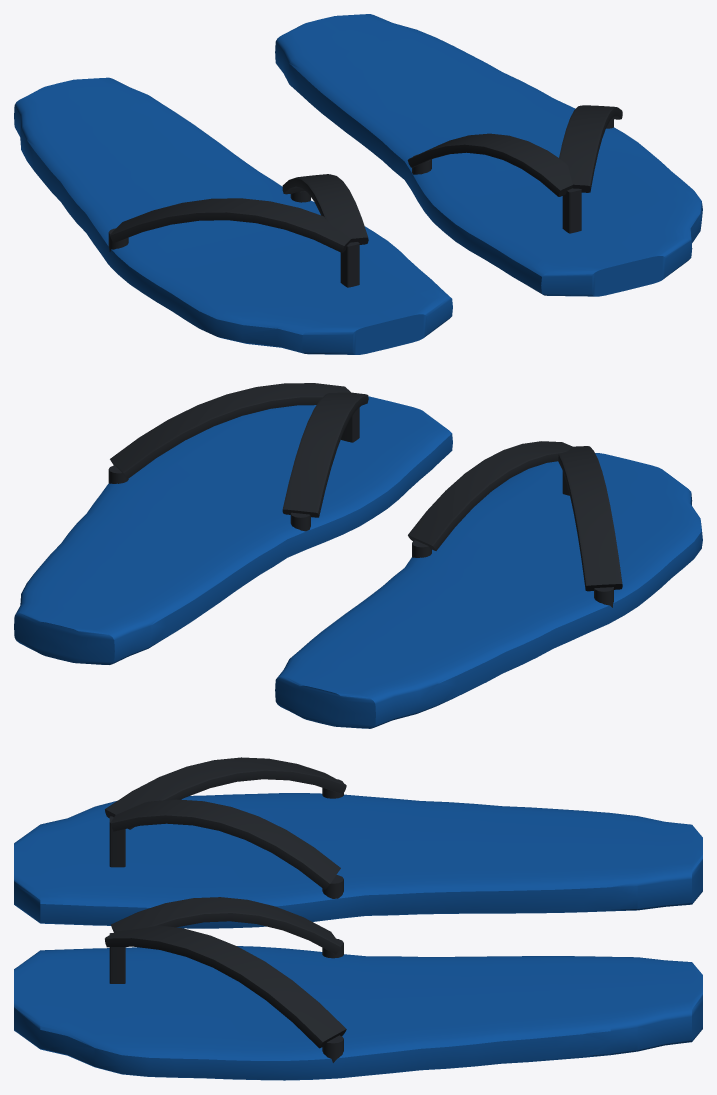
File: dep_tong_vn.glb
The picture shows the model from 3 angles, top to bottom: view 1: azimuth 30°, elevation 25°; view 2: azimuth 150°, elevation 25°; view 3: azimuth 270°, elevation 25°; orthographic projection. The views are drawn at different scales.
Parts seen in each view (by area): view 1: dep_tong_vn; view 2: dep_tong_vn; view 3: dep_tong_vn.
Boxes of the visible parts, x1,y1,x2,y2 form: dep_tong_vn: (14,14,702,354); dep_tong_vn: (14,383,702,728); dep_tong_vn: (14,757,702,1080).
Size of the model in its own units: 0.2351 by 0.0385 by 0.2537.
